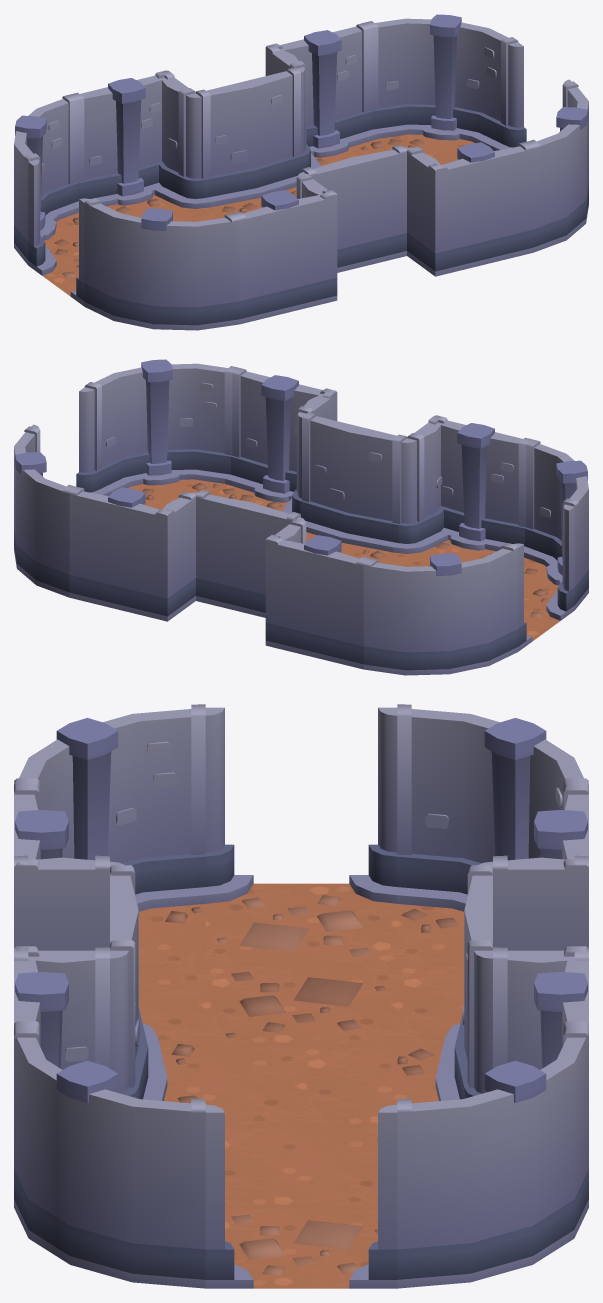
Rendered from modular-dungeon-kit--room-wide-variation.glb.
3 renders of one model, top to bottom at view 1: azimuth 30°, elevation 25°; view 2: azimuth 150°, elevation 25°; view 3: azimuth 270°, elevation 25°, orthographic. The views are drawn at different scales.
Parts seen in each view (by area): view 1: room-wide-variation; view 2: room-wide-variation; view 3: room-wide-variation.
Part boxes in pixels (x1,y1,x2,y2): room-wide-variation: (14, 14, 588, 330); room-wide-variation: (14, 359, 588, 675); room-wide-variation: (14, 704, 588, 1288).
Size of the model in its own units: 20 by 4.23 by 12.
1 material, 1 textured.
